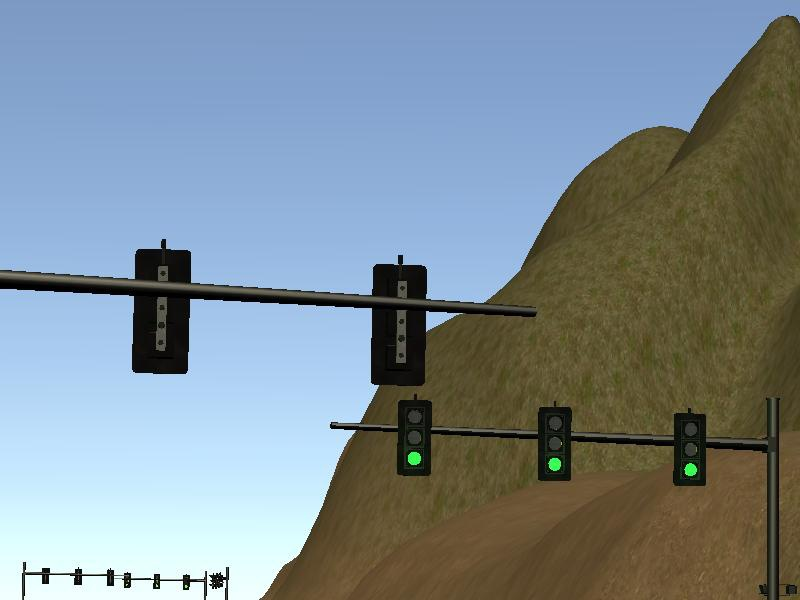Green: (398, 401, 431, 475), (538, 409, 571, 481), (674, 413, 705, 486), (183, 575, 190, 589), (124, 572, 130, 587), (154, 574, 159, 588)
